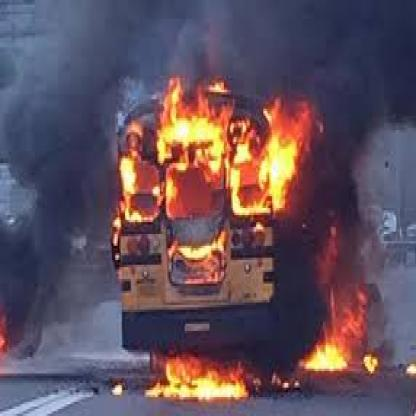fire: (90, 47, 402, 402)
